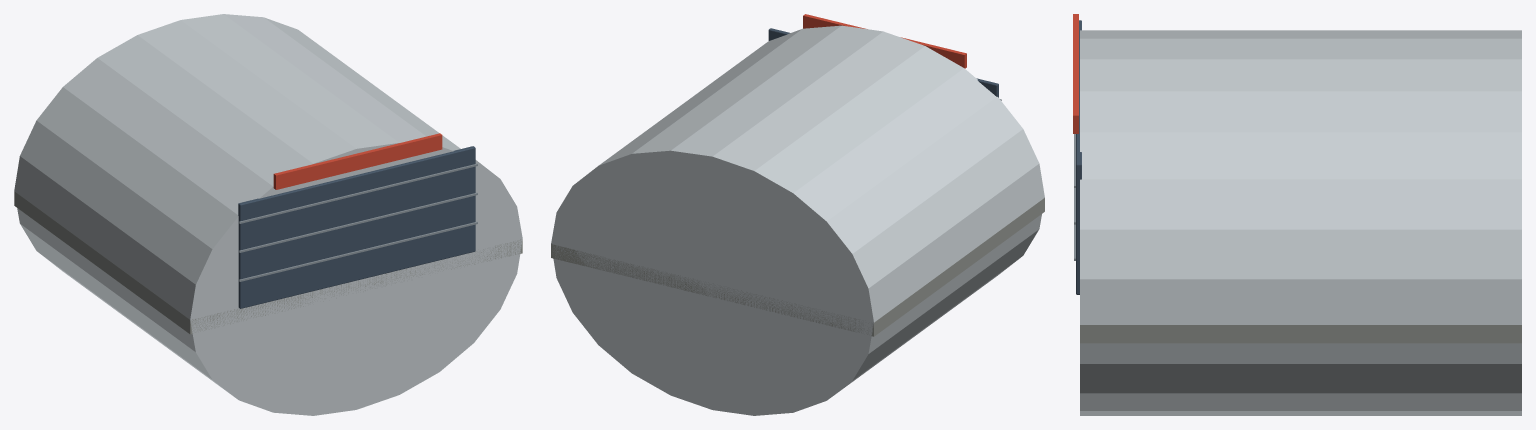
Rendered from hangar.glb.
3 renders of one model, left to right at view 1: azimuth 30°, elevation 25°; view 2: azimuth 150°, elevation 25°; view 3: azimuth 270°, elevation 25°, orthographic. The views are drawn at different scales.
Visible parts, largest first — view 1: Cylinder; view 2: Cylinder; view 3: Cylinder.
Part boxes in pixels (x1=…): Cylinder: x1=14, y1=14, x2=522, y2=415; Cylinder: x1=551, y1=14, x2=1044, y2=415; Cylinder: x1=1073, y1=14, x2=1521, y2=415.
Size of the model in its own units: 24 by 18 by 22.35.
